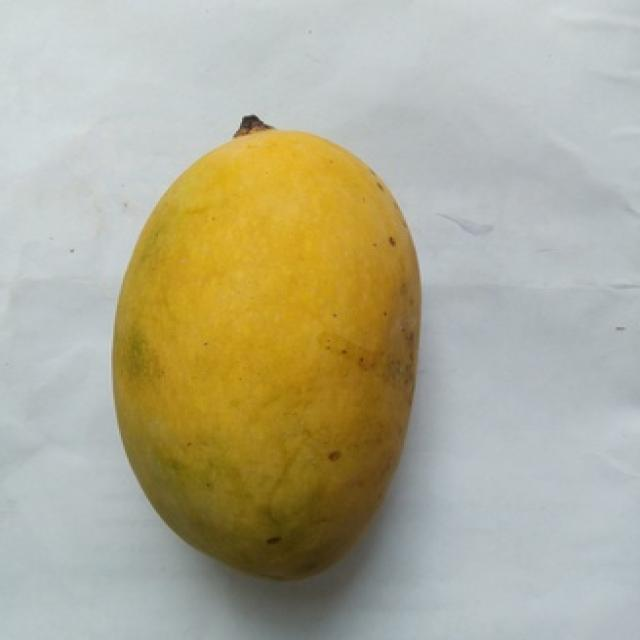Mango: (115, 129, 416, 573)
